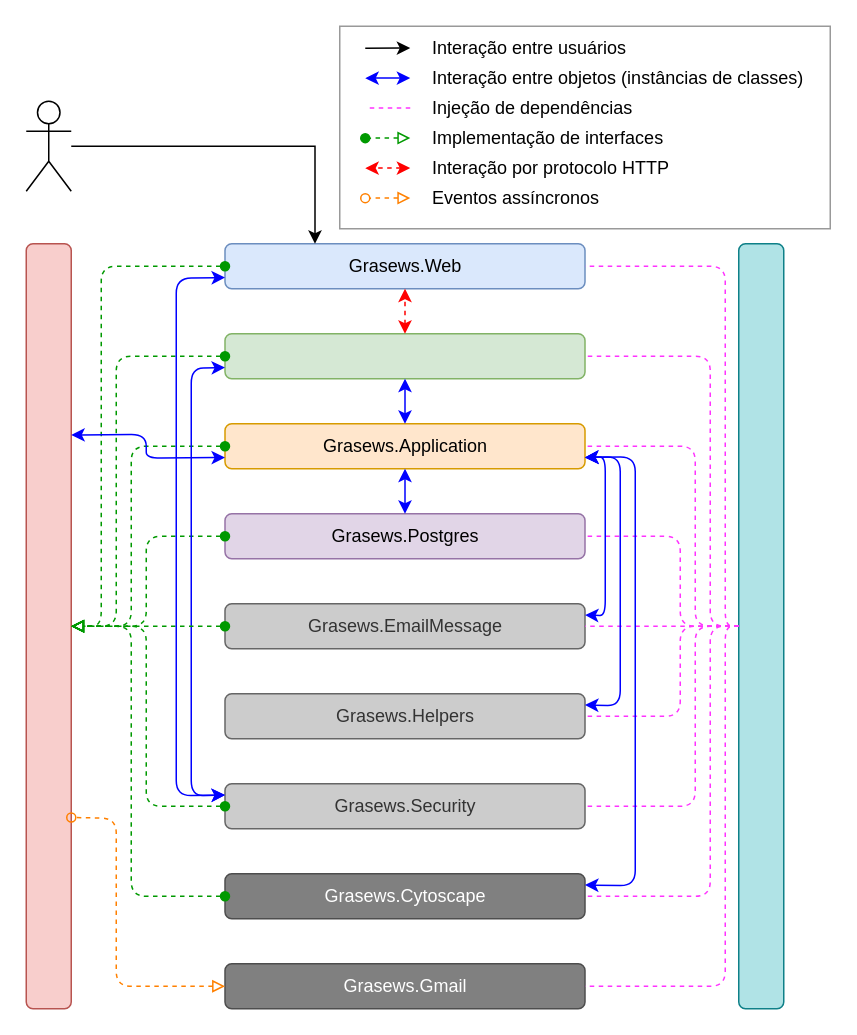
This 857x1035 diagram has some shape labels left out. The centre of each missing label's shape, as x and y in pixels:
Grasews.API: the point at 404,355
Grasews.Domain: the point at 48,625
Grasews.IoC: the point at 760,625
User: the point at 48,145
